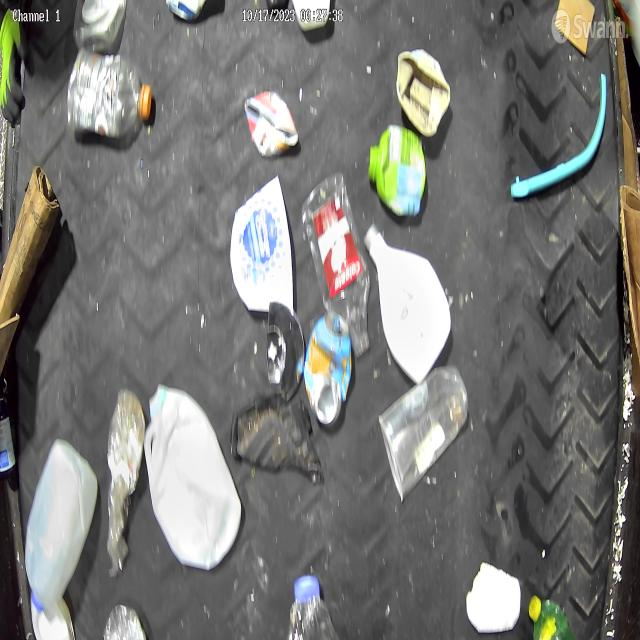can: (303, 312, 352, 423), (244, 89, 299, 158), (165, 1, 213, 24)
milk_jug: (146, 381, 242, 570), (23, 440, 99, 610)
non_white_jug: (370, 126, 429, 219)
plastic_bottle: (306, 177, 372, 359), (68, 50, 153, 142), (285, 574, 343, 640), (101, 603, 152, 640)
